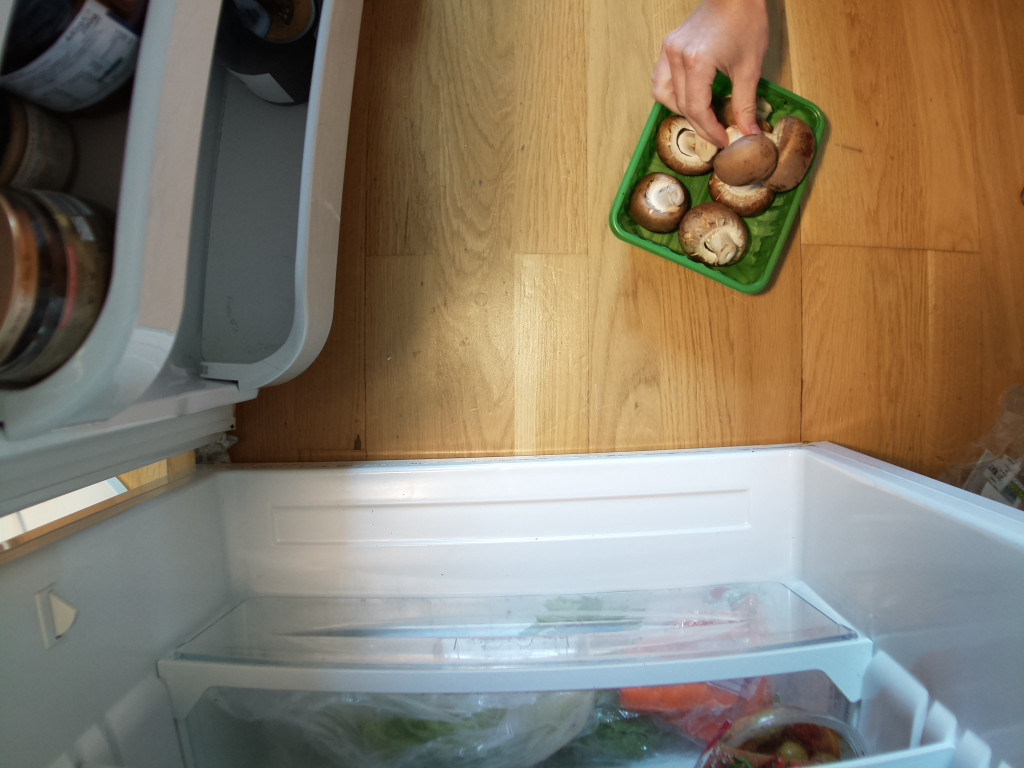mushrooms: (611, 63, 827, 297)
